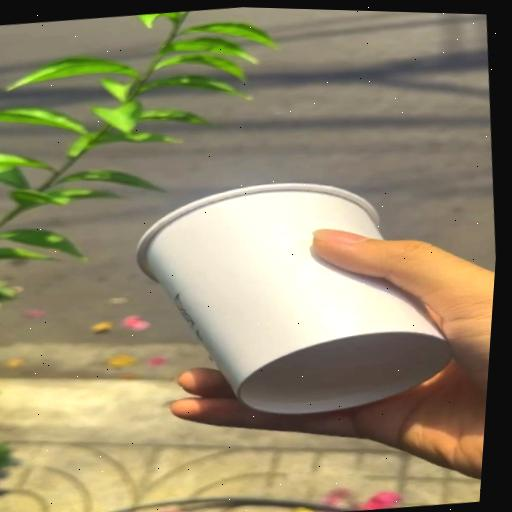Ly_giay: (138, 183, 452, 413)
